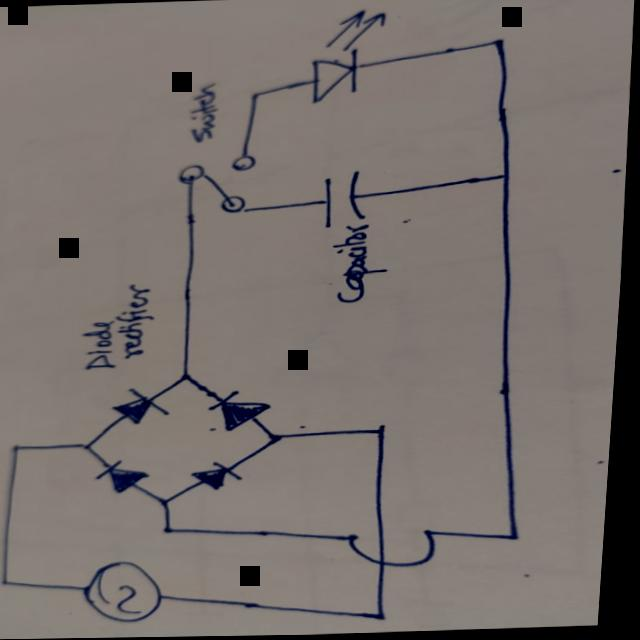capacitor: (316, 169, 376, 229)
crossover: (346, 527, 443, 569)
diode: (305, 9, 388, 103), (210, 390, 277, 432), (112, 387, 175, 424), (92, 459, 155, 494), (196, 462, 249, 491)
junction: (504, 531, 533, 544), (268, 432, 295, 445), (374, 610, 402, 622), (496, 171, 523, 183), (371, 424, 394, 438), (11, 441, 35, 454), (244, 89, 269, 101), (486, 38, 510, 50), (81, 440, 105, 451), (158, 496, 184, 506), (164, 524, 186, 535), (179, 372, 203, 382), (4, 578, 25, 587)
source: (83, 559, 174, 623)
switch: (175, 152, 261, 216)
text: (80, 280, 165, 371), (330, 222, 397, 304), (184, 82, 222, 144)
